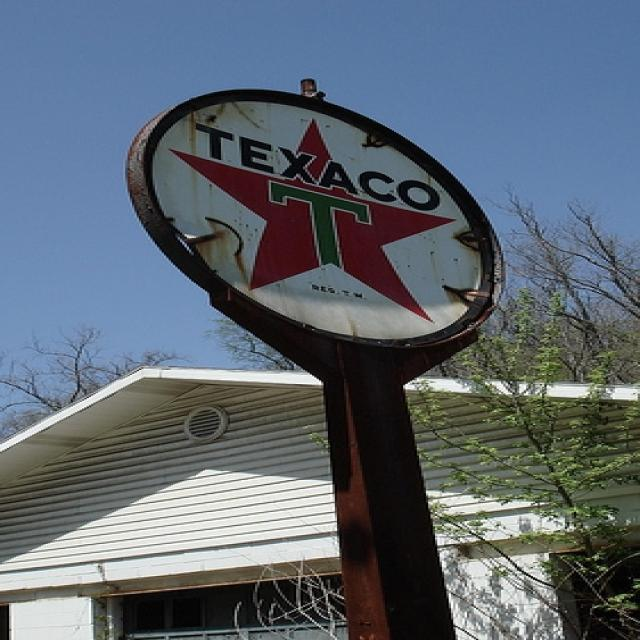texaco: (149, 101, 486, 341)
